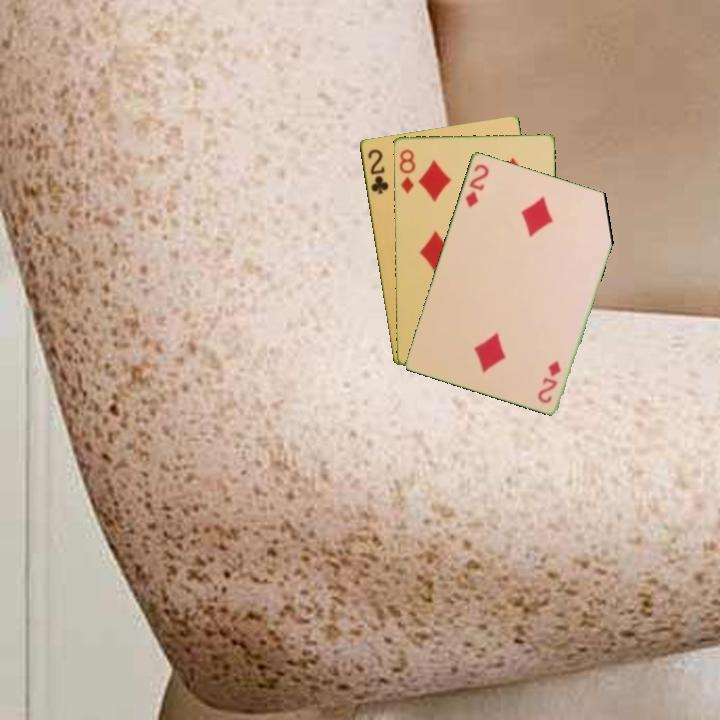2c: (364, 145, 391, 197)
2d: (462, 160, 492, 210), (535, 357, 563, 406)
8d: (396, 146, 418, 196)
